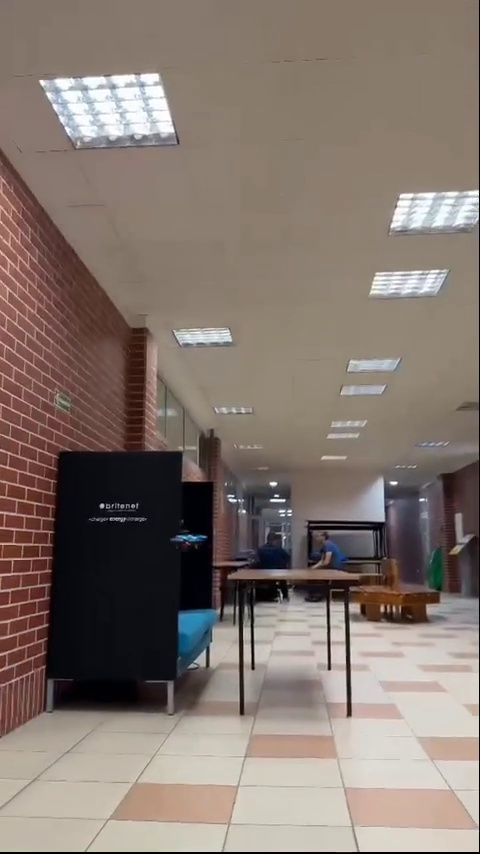drone: (171, 533, 206, 549)
no vest: (258, 530, 296, 569), (314, 531, 343, 570)
